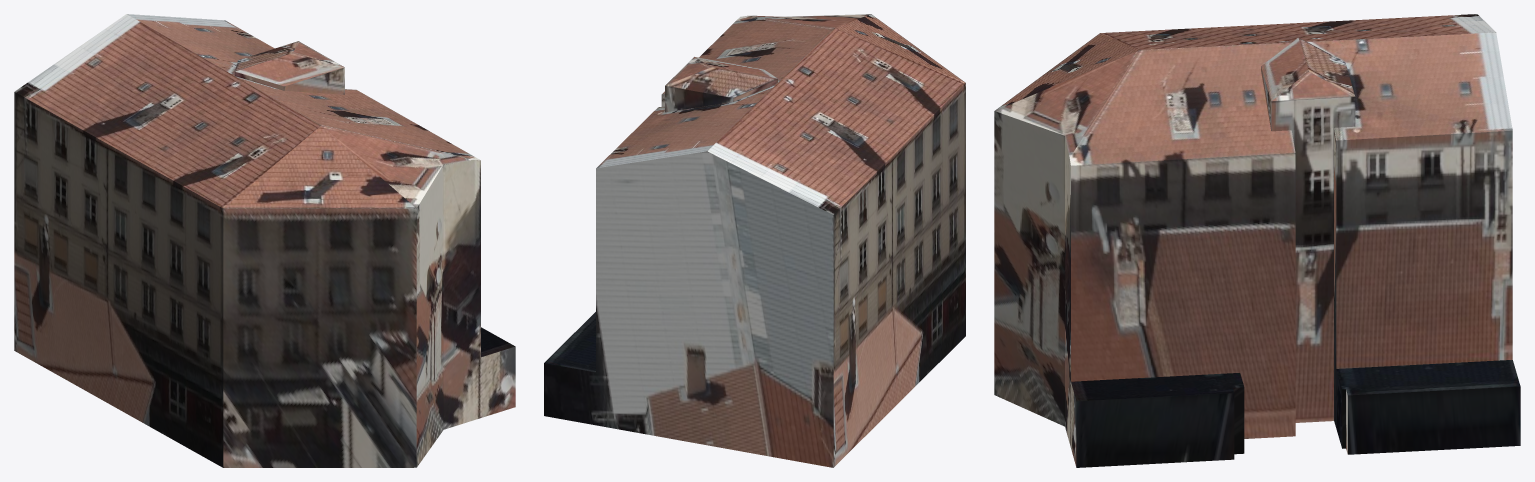
3 renders of one model, left to right at view 1: azimuth 30°, elevation 25°; view 2: azimuth 150°, elevation 25°; view 3: azimuth 270°, elevation 25°, orthographic. The views are drawn at different scales.
Visible parts, largest first — view 1: Z_UP; view 2: Z_UP; view 3: Z_UP.
Boxes of the visible parts, x1,y1,x2,y2 form: Z_UP: (14, 14, 515, 467); Z_UP: (544, 14, 965, 467); Z_UP: (994, 14, 1520, 467).
Bounding box in the file's own units: 20.63 × 18.91 × 26.96.
2 materials, 1 textured.
